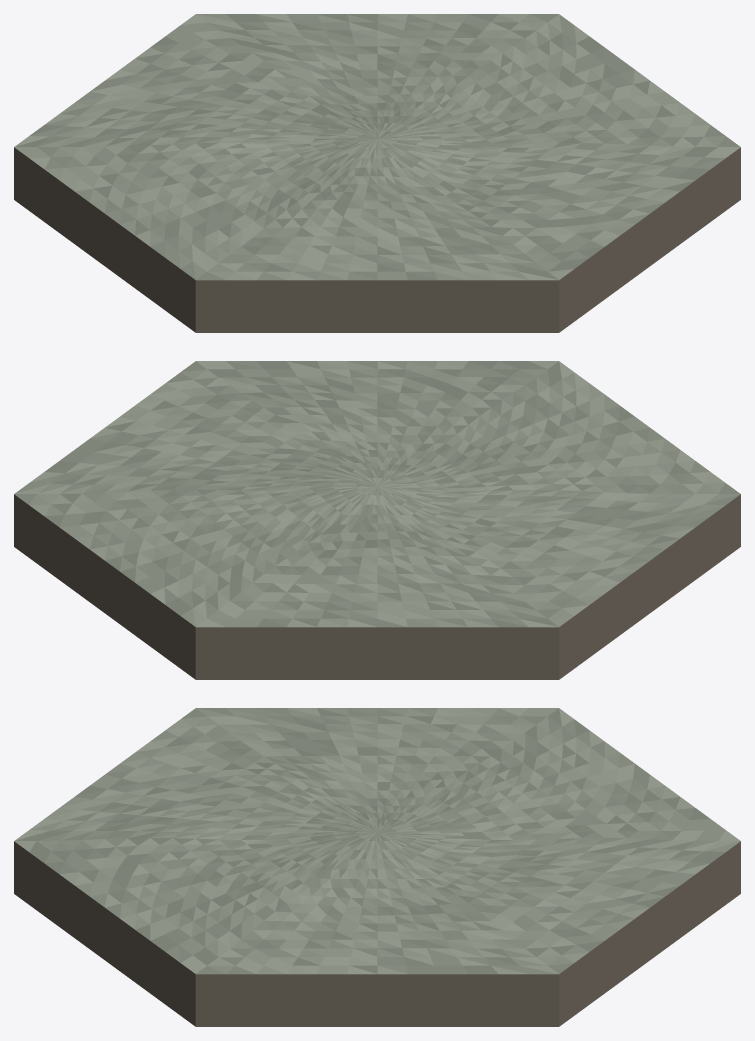
File: TERRAIN_TUNDRA_v01.fbx
3 views of the same model, one above another, from view 1: azimuth 30°, elevation 25°; view 2: azimuth 150°, elevation 25°; view 3: azimuth 270°, elevation 25° (orthographic).
Visible parts, largest first — view 1: TERRAIN_TUNDRA_v01; view 2: TERRAIN_TUNDRA_v01; view 3: TERRAIN_TUNDRA_v01.
Boxes of the visible parts, x1,y1,x2,y2 form: TERRAIN_TUNDRA_v01: (14, 14, 740, 332); TERRAIN_TUNDRA_v01: (14, 361, 740, 679); TERRAIN_TUNDRA_v01: (14, 708, 740, 1026).
Size of the model in its own units: 173 by 18.57 by 200.
